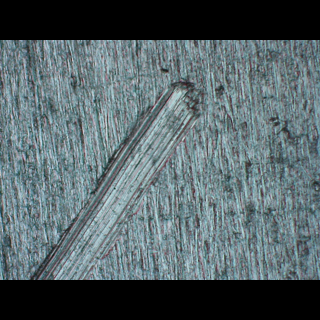d: (25, 75, 204, 279)
